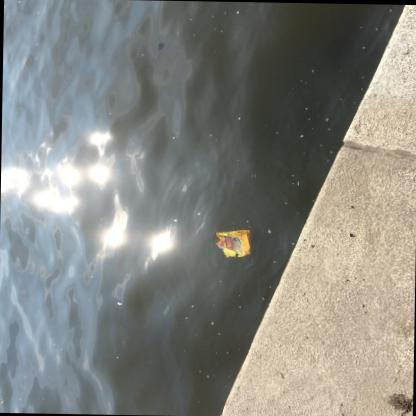Plastic: (215, 228, 251, 256), (297, 179, 299, 184)
Waste: (254, 173, 256, 177), (252, 173, 253, 175)
